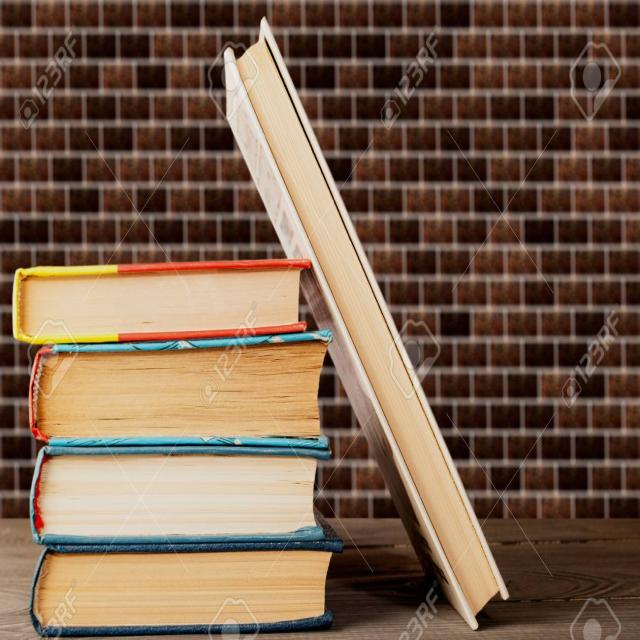Books: (226, 19, 509, 629), (30, 331, 330, 442), (30, 548, 331, 637), (31, 452, 322, 542), (12, 260, 310, 344)
